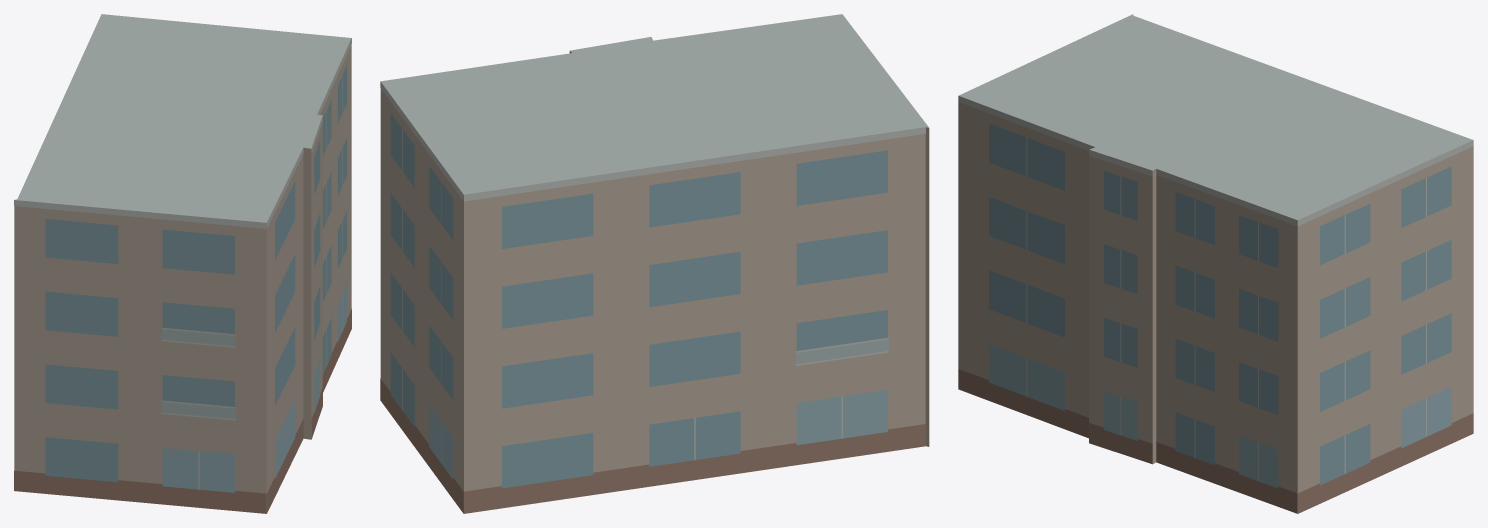
Rendered from survey-upis-32819043.glb.
The picture shows the model from 3 angles, left to right: view 1: azimuth 30°, elevation 25°; view 2: azimuth 150°, elevation 25°; view 3: azimuth 270°, elevation 25°; orthographic projection. The views are drawn at different scales.
Visible parts, largest first — view 1: survey-upis-32819043.tmp; view 2: survey-upis-32819043.tmp; view 3: survey-upis-32819043.tmp.
Part boxes in pixels (bbox=[...]): survey-upis-32819043.tmp: bbox=[14, 14, 351, 513]; survey-upis-32819043.tmp: bbox=[380, 14, 929, 513]; survey-upis-32819043.tmp: bbox=[958, 14, 1473, 513].
Size of the model in its own units: 17.64 by 11.7 by 18.61.
